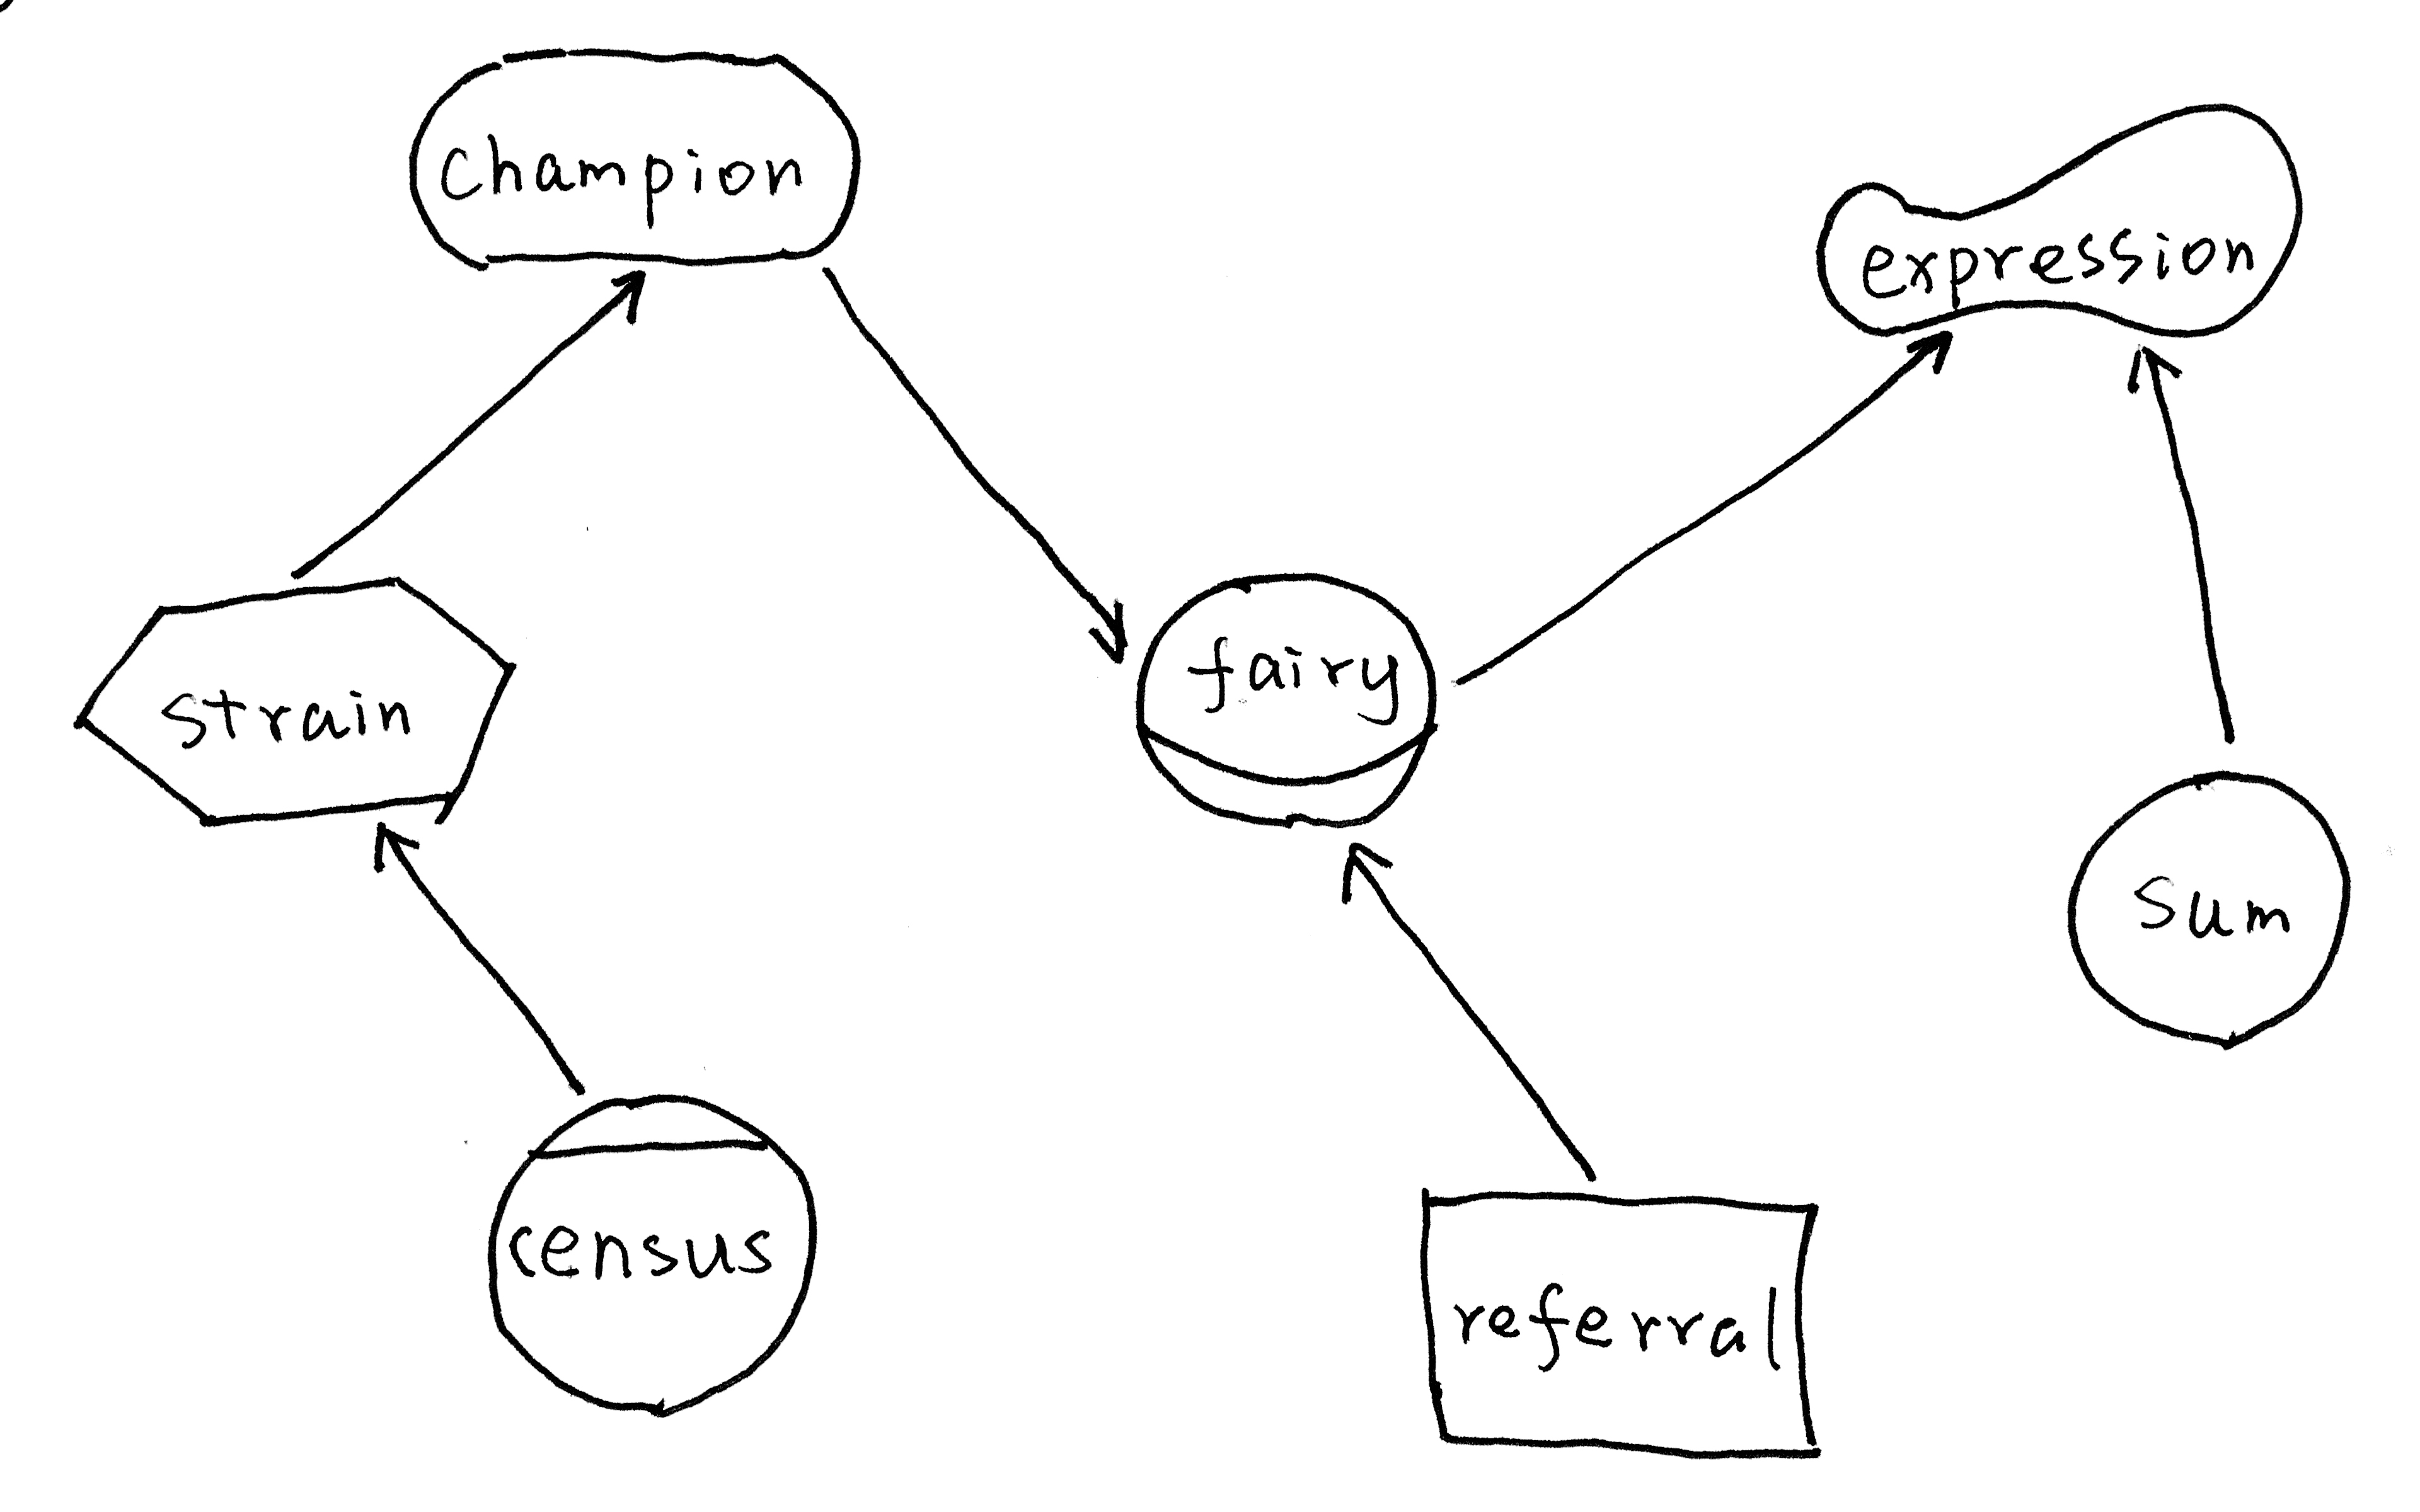actor: (2042, 751, 2369, 1057)
agent: (463, 1073, 842, 1427)
arrow: (1315, 820, 1415, 915), (345, 801, 439, 894), (2110, 329, 2206, 420), (1071, 578, 1155, 679), (599, 246, 671, 334), (1892, 310, 1964, 397)
goal: (394, 21, 887, 296)
quality: (1798, 84, 2326, 352)
resource: (1390, 1176, 1843, 1475)
role: (1119, 550, 1451, 854)
task: (51, 561, 528, 854)
